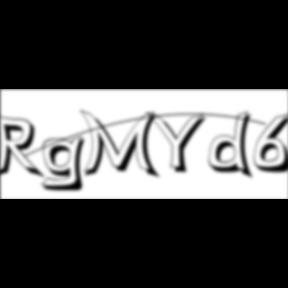M: (79, 108, 163, 181)
R: (0, 112, 48, 182)
Y: (146, 110, 212, 176)
d: (209, 110, 259, 182)
g: (41, 134, 93, 194)
